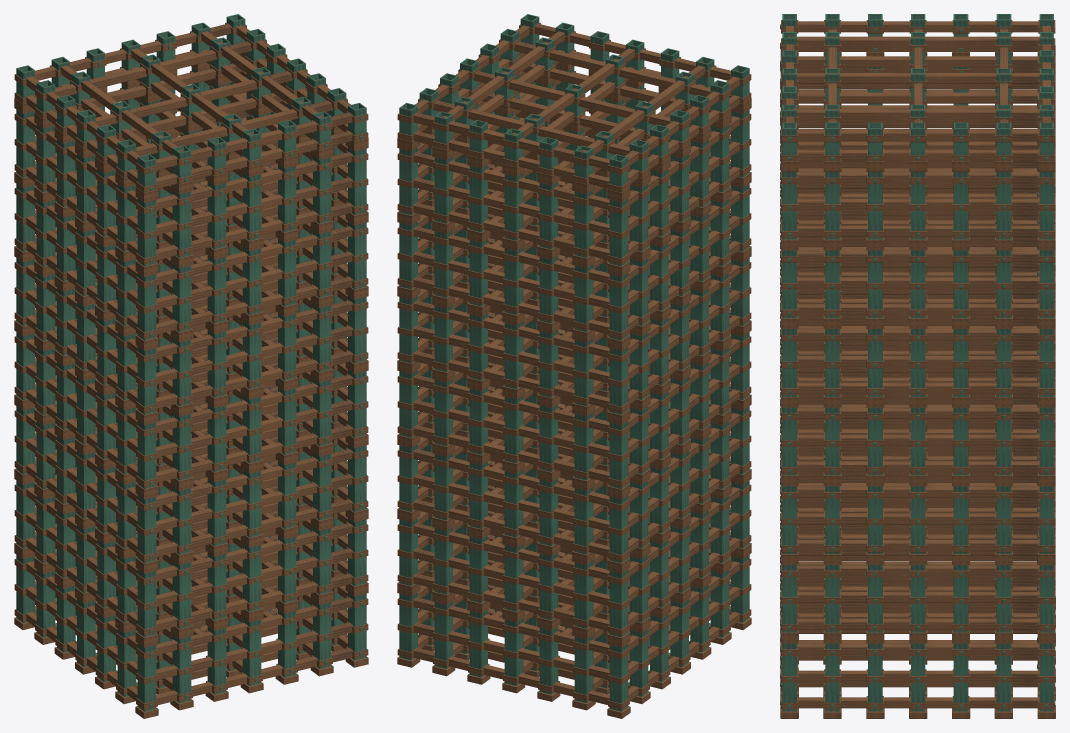
3 views of the same model, side by side, from view 1: azimuth 30°, elevation 25°; view 2: azimuth 150°, elevation 25°; view 3: azimuth 270°, elevation 25° (orthographic). The views are drawn at different scales.
Parts seen in each view (by area): view 1: Tier 7 internal tie 0-0-0-0.75, Tier 7 internal tie 0-0.56-0-0.75, Tier 7 internal tie 0--0.56-0-0.75, Tier 0 tie 0-0-0.5, Tier 3 tie 0-0-0.5, Tier 2 tie 0-0-0.16, Tier 3 tie 0-0-0.16, Tier 4 tie 0-0-0.16, Tier 7 tie 0-0-0.75, Tier 1 tie 0-0-0.16, Tier 1 tie 0-0-0.5, Tier 2 tie 0-0-0.5 (+138 smaller); view 2: Tier 7 internal tie 0-0-0-0.75, Tier 7 internal tie 0--0.56-0-0.75, Tier 7 internal tie 0-0.56-0-0.75, Tier 0 tie 2-0-0.5, Tier 3 tie 2-0-0.5, Tier 2 tie 2-0-0.16, Tier 3 tie 2-0-0.16, Tier 4 tie 2-0-0.16, Tier 7 tie 2-0-0.75, Tier 1 tie 2-0-0.16, Tier 1 tie 2-0-0.5, Tier 2 tie 2-0-0.5 (+138 smaller); view 3: Tier 7 internal tie 1--0.56-0-0.75, Tier 7 internal tie 1--0.56-0-0.25, Tier 7 internal tie 1-0-0-0.25, Tier 7 internal tie 1-0-0-0.75, Tier 7 internal tie 1-0.56-0-0.75, Tier 0 tie 1-0-0.5, Tier 0 tie 1-0-0.84, Tier 1 tie 1-0-0.16, Tier 2 tie 1-0-0.84, Tier 3 tie 1-0-0.5, Tier 4 tie 1-0-0.16, Tier 5 tie 1-0-0.84 (+131 smaller).
Boxes of the visible parts, x1=… form: Tier 7 internal tie 0-0-0-0.75: x1=95, y1=71, x2=292, y2=126; Tier 7 internal tie 0-0.56-0-0.75: x1=55, y1=41, x2=251, y2=96; Tier 7 internal tie 0--0.56-0-0.75: x1=136, y1=100, x2=332, y2=155; Tier 0 tie 0-0-0.5: x1=156, y1=622, x2=353, y2=679; Tier 3 tie 0-0-0.5: x1=156, y1=400, x2=353, y2=457; Tier 2 tie 0-0-0.16: x1=156, y1=499, x2=353, y2=556; Tier 3 tie 0-0-0.16: x1=156, y1=425, x2=353, y2=482; Tier 4 tie 0-0-0.16: x1=156, y1=351, x2=353, y2=408; Tier 7 tie 0-0-0.75: x1=156, y1=112, x2=353, y2=169; Tier 1 tie 0-0-0.16: x1=156, y1=573, x2=353, y2=630; Tier 1 tie 0-0-0.5: x1=156, y1=548, x2=353, y2=605; Tier 2 tie 0-0-0.5: x1=156, y1=474, x2=353, y2=531; Tier 7 internal tie 0-0-0-0.75: x1=473, y1=71, x2=670, y2=126; Tier 7 internal tie 0--0.56-0-0.75: x1=514, y1=41, x2=710, y2=96; Tier 7 internal tie 0-0.56-0-0.75: x1=433, y1=100, x2=629, y2=155; Tier 0 tie 2-0-0.5: x1=412, y1=622, x2=609, y2=679; Tier 3 tie 2-0-0.5: x1=412, y1=400, x2=609, y2=457; Tier 2 tie 2-0-0.16: x1=412, y1=499, x2=609, y2=556; Tier 3 tie 2-0-0.16: x1=412, y1=425, x2=609, y2=482; Tier 4 tie 2-0-0.16: x1=412, y1=351, x2=609, y2=408; Tier 7 tie 2-0-0.75: x1=412, y1=112, x2=609, y2=169; Tier 1 tie 2-0-0.16: x1=412, y1=573, x2=609, y2=630; Tier 1 tie 2-0-0.5: x1=412, y1=548, x2=609, y2=605; Tier 2 tie 2-0-0.5: x1=412, y1=474, x2=609, y2=531; Tier 7 internal tie 1--0.56-0-0.75: x1=788, y1=36, x2=1048, y2=47; Tier 7 internal tie 1--0.56-0-0.25: x1=798, y1=56, x2=1038, y2=67; Tier 7 internal tie 1-0-0-0.25: x1=798, y1=92, x2=1038, y2=103; Tier 7 internal tie 1-0-0-0.75: x1=788, y1=73, x2=1048, y2=83; Tier 7 internal tie 1-0.56-0-0.75: x1=788, y1=109, x2=1048, y2=119; Tier 0 tie 1-0-0.5: x1=797, y1=670, x2=1039, y2=681; Tier 0 tie 1-0-0.84: x1=797, y1=643, x2=1039, y2=654; Tier 1 tie 1-0-0.16: x1=797, y1=618, x2=1039, y2=629; Tier 2 tie 1-0-0.84: x1=797, y1=486, x2=1039, y2=497; Tier 3 tie 1-0-0.5: x1=797, y1=434, x2=1039, y2=445; Tier 4 tie 1-0-0.16: x1=797, y1=382, x2=1039, y2=393; Tier 5 tie 1-0-0.84: x1=797, y1=250, x2=1039, y2=261.
Bounding box in the file's own units: 1.8 × 4.25 × 1.8.
Materials: 2 (2 with a texture image).
